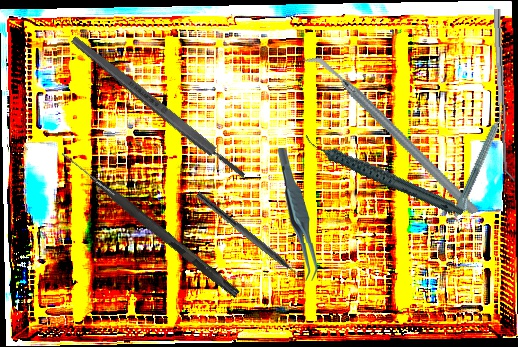Chopper: (302, 18, 480, 251), (189, 191, 309, 289)
Handpiece: (301, 104, 466, 246), (451, 108, 511, 221)
Hook Surgical: (57, 150, 242, 298)
Scalpel Handle: (69, 33, 248, 182)
Spatula Surgical: (493, 8, 516, 182)
Tissue Forceps: (276, 147, 319, 282)
